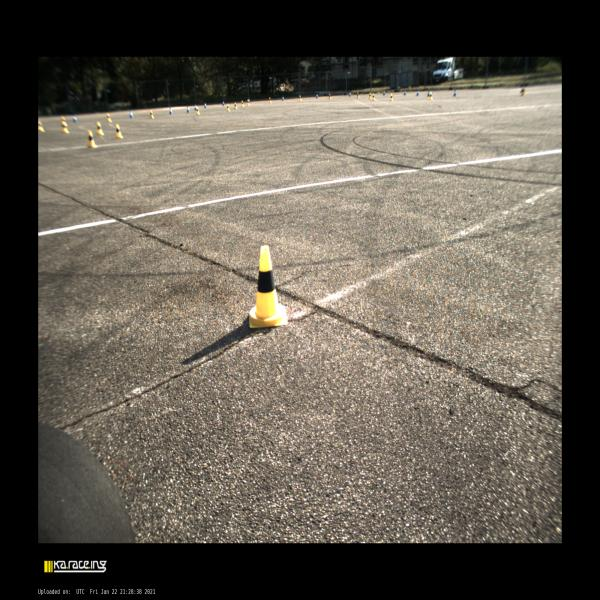blue_cone: (186, 105, 190, 113), (169, 107, 173, 114), (130, 111, 134, 118), (74, 115, 77, 123), (427, 91, 430, 97), (416, 91, 419, 96), (194, 105, 197, 110), (454, 90, 456, 96), (348, 92, 351, 96), (222, 100, 224, 106), (404, 90, 406, 95), (282, 96, 284, 101), (383, 91, 385, 95), (316, 94, 318, 98), (205, 103, 206, 108)
yellow_cone: (250, 245, 288, 328), (88, 130, 98, 148), (96, 122, 104, 135), (116, 124, 123, 138), (62, 123, 68, 134), (38, 120, 44, 131), (106, 113, 112, 122), (150, 110, 154, 118), (429, 92, 433, 100), (368, 92, 372, 99), (234, 103, 238, 109), (521, 87, 524, 95), (196, 107, 199, 114), (227, 104, 230, 111), (372, 93, 375, 100), (390, 94, 393, 101), (241, 101, 244, 107), (299, 95, 302, 101), (357, 92, 360, 98), (328, 94, 331, 99), (269, 97, 271, 103), (247, 100, 249, 105)
